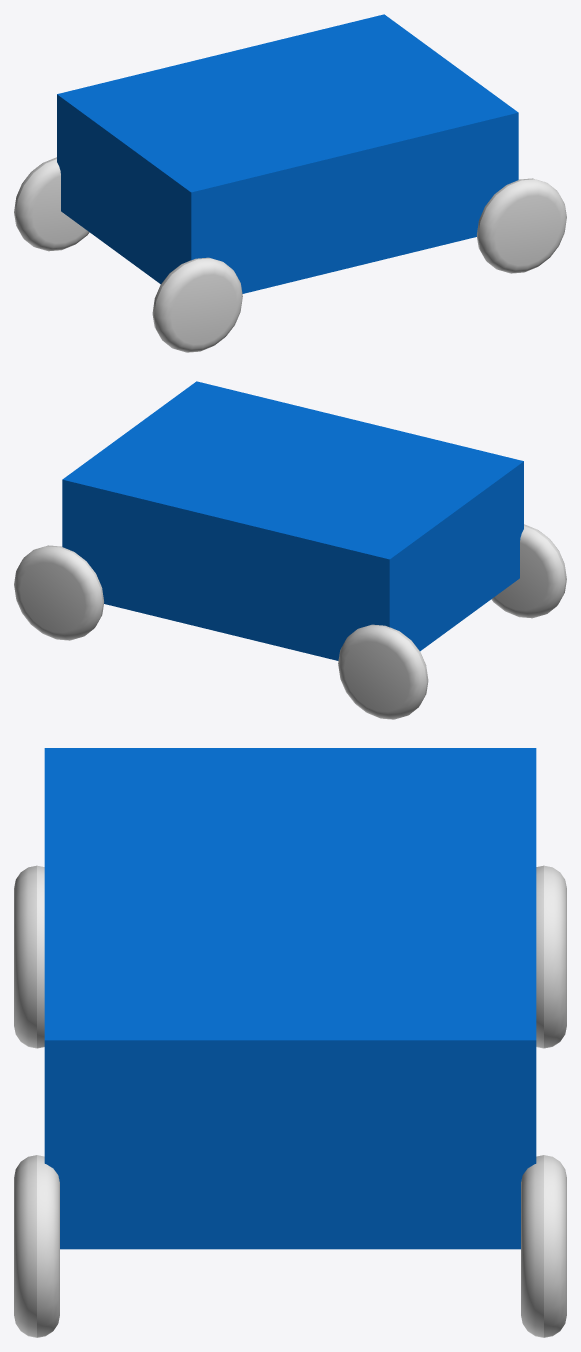
The model's file is boxcar.fbx.
3 views of the same model, one above another, from view 1: azimuth 30°, elevation 25°; view 2: azimuth 150°, elevation 25°; view 3: azimuth 270°, elevation 25° (orthographic). The views are drawn at different scales.
Visible parts, largest first — view 1: chassis, tire_rl, tire_fl, tire_rr; view 2: chassis, tire_rr, tire_fr, tire_rl; view 3: chassis, tire_fr, tire_fl, tire_rl, tire_rr.
Boxes of the visible parts, left/top/right/bottom form: chassis: left=57, top=14, right=518, bottom=293; tire_rl: left=152, top=257, right=242, bottom=352; tire_fl: left=477, top=178, right=566, bottom=273; tire_rr: left=14, top=157, right=89, bottom=251; chassis: left=62, top=381, right=523, bottom=660; tire_rr: left=338, top=624, right=428, bottom=719; tire_fr: left=14, top=545, right=103, bottom=640; tire_rl: left=491, top=524, right=566, bottom=618; chassis: left=44, top=748, right=536, bottom=1249; tire_fr: left=521, top=1155, right=566, bottom=1337; tire_fl: left=14, top=1155, right=59, bottom=1337; tire_rl: left=14, top=865, right=44, bottom=1048; tire_rr: left=536, top=865, right=566, bottom=1048.
Bounding box in the file's own units: 377 × 240 × 138.
